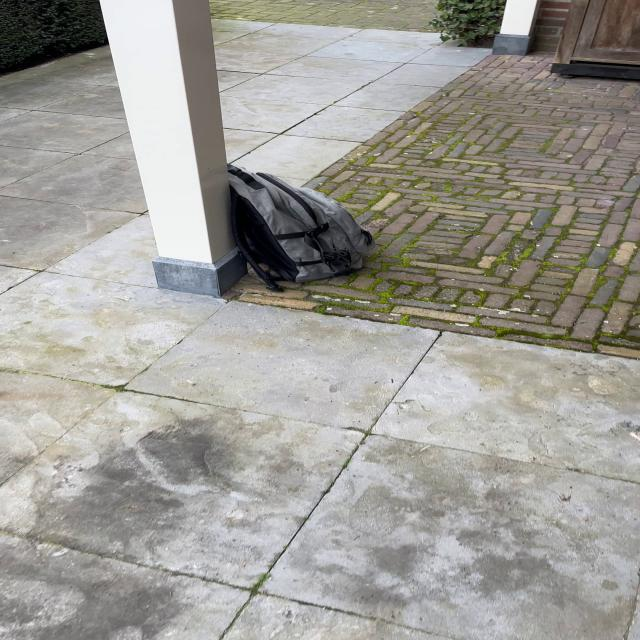backpack: (210, 162, 381, 295)
